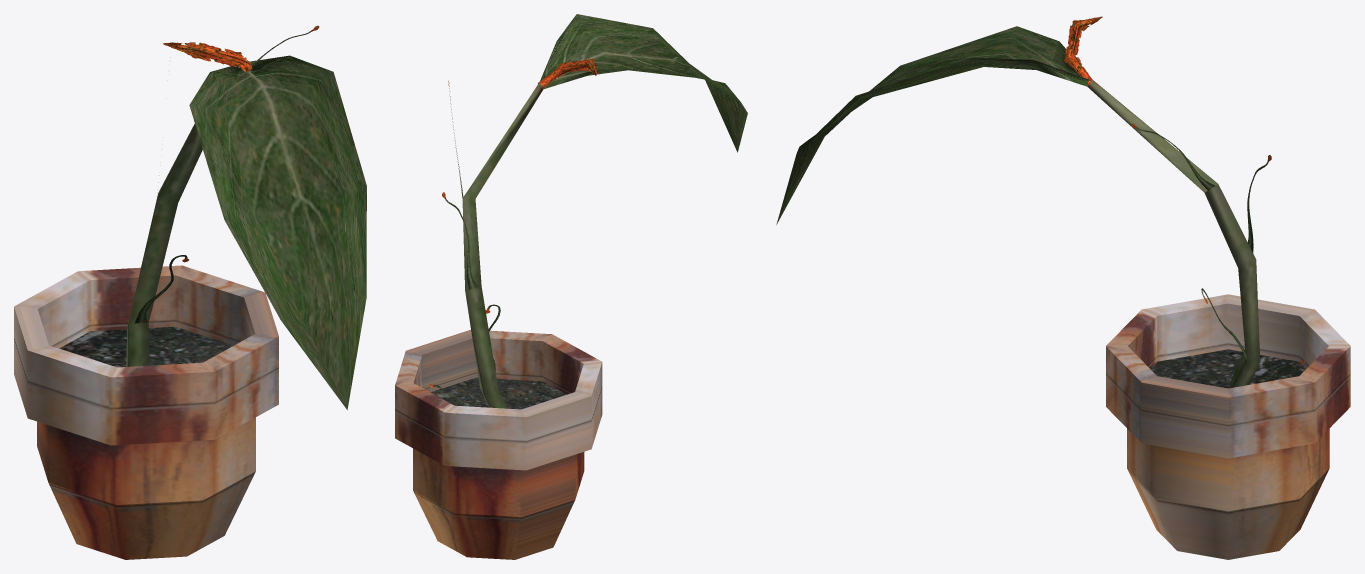
The model's file is frn_quest_fs_plant_2_l1.fbx.
3 views of the same model, side by side, from view 1: azimuth 30°, elevation 25°; view 2: azimuth 150°, elevation 25°; view 3: azimuth 270°, elevation 25° (orthographic). The views are drawn at different scales.
Visible parts, largest first — view 1: mesh_node; view 2: mesh_node; view 3: mesh_node.
Part boxes in pixels (box(x1,y1,x2,y2)): mesh_node: box(14, 25, 366, 559); mesh_node: box(395, 14, 747, 559); mesh_node: box(776, 16, 1350, 559).
Bounding box in the file's own units: 0.6416 × 1.42 × 1.49.
3 materials, 3 textured.
